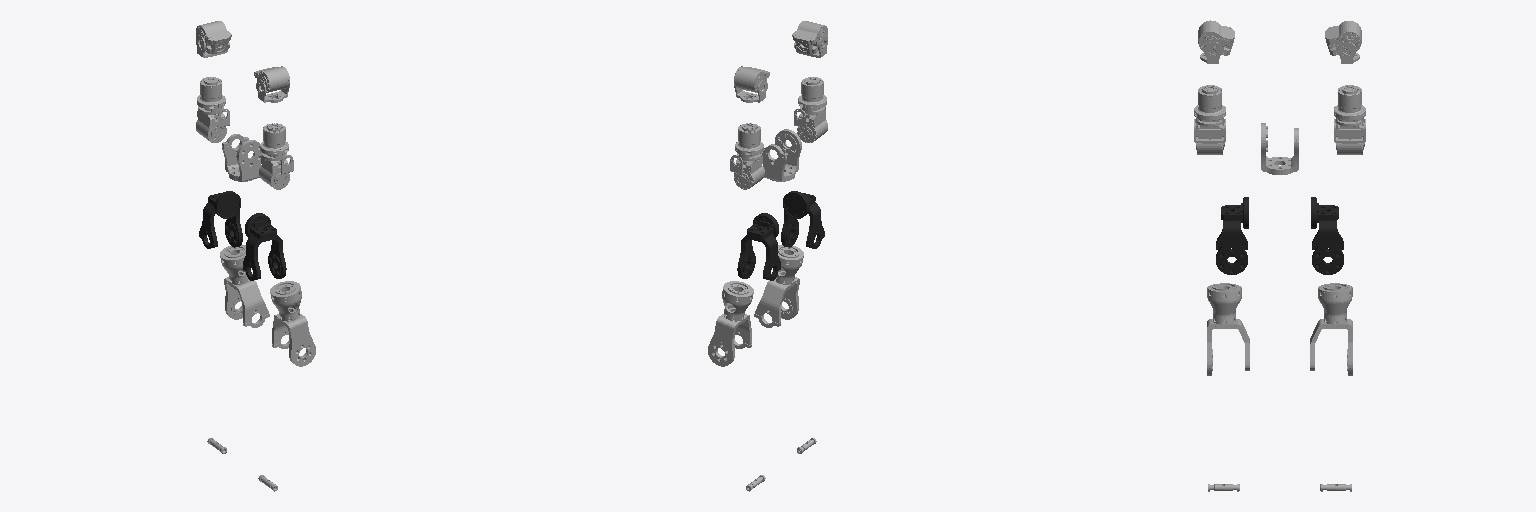
--- Facts derived from the render (not from the file) ---
Views: 3 orthographic renders of the robot side by side, from view 1: azimuth 30°, elevation 25°; view 2: azimuth 150°, elevation 25°; view 3: azimuth 270°, elevation 25°.
Model g1_23dof with 29 links and 28 joints (23 revolute, 4 fixed, 1 floating), rooted at world, posed every joint at zero.
Visible links, largest first — view 1: right_hip_yaw_link, left_hip_yaw_link, right_hip_pitch_link, left_hip_pitch_link, right_shoulder_yaw_link, left_shoulder_yaw_link, waist_yaw_link, left_shoulder_pitch_link, right_shoulder_pitch_link; view 2: left_hip_yaw_link, right_hip_yaw_link, left_hip_pitch_link, right_hip_pitch_link, left_shoulder_yaw_link, right_shoulder_yaw_link, waist_yaw_link, right_shoulder_pitch_link, left_shoulder_pitch_link; view 3: right_hip_pitch_link, left_hip_pitch_link, right_hip_yaw_link, left_hip_yaw_link, left_shoulder_yaw_link, right_shoulder_yaw_link, waist_yaw_link, left_shoulder_pitch_link, right_shoulder_pitch_link.
Link boxes in pixels (x1,y1,x2,y2): right_hip_yaw_link: (270,281,315,366); left_hip_yaw_link: (220,245,269,327); right_hip_pitch_link: (243,213,286,280); left_hip_pitch_link: (199,191,242,248); right_shoulder_yaw_link: (259,123,289,189); left_shoulder_yaw_link: (196,77,226,142); waist_yaw_link: (222,134,261,181); left_shoulder_pitch_link: (196,21,231,53); right_shoulder_pitch_link: (254,66,289,92); left_hip_yaw_link: (708,281,753,366); right_hip_yaw_link: (754,245,803,327); left_hip_pitch_link: (737,213,780,280); right_hip_pitch_link: (781,191,824,248); left_shoulder_yaw_link: (734,123,764,189); right_shoulder_yaw_link: (797,77,827,142); waist_yaw_link: (762,129,801,181); right_shoulder_pitch_link: (792,21,827,53); left_shoulder_pitch_link: (734,66,769,92); right_hip_pitch_link: (1216,197,1248,274); left_hip_pitch_link: (1311,197,1343,274); right_hip_yaw_link: (1207,283,1249,375); left_hip_yaw_link: (1310,283,1352,375); left_shoulder_yaw_link: (1334,85,1365,154); right_shoulder_yaw_link: (1194,85,1225,154); waist_yaw_link: (1261,123,1298,174); left_shoulder_pitch_link: (1325,21,1361,55); right_shoulder_pitch_link: (1198,20,1234,55).
Bounding box of the posed robot: 0.147 × 0.3616 × 1.08 m (x, y, z).
15 mesh visuals loaded from 28 distinct referenced files (15 binary STL); not drawn: 13 (reference not matched to a file when rendering).

robot.urdf — g1_23dof:
<robot name="g1_23dof">
  <mujoco>
    <compiler meshdir="meshes" discardvisual="false"/>
  </mujoco>

  <!-- [CAUTION] uncomment when convert to mujoco -->
  <link name="world"></link>
  <joint name="floating_base_joint" type="floating">
    <parent link="world"/>
    <child link="pelvis"/>
  </joint>

  <link name="pelvis">
    <inertial>
      <origin xyz="0 0 -0.07605" rpy="0 0 0"/>
      <mass value="3.813"/>
      <inertia ixx="0.010549" ixy="0" ixz="2.1E-06" iyy="0.0093089" iyz="0" izz="0.0079184"/>
    </inertial>
    <visual>
      <origin xyz="0 0 0" rpy="0 0 0"/>
      <geometry>
        <mesh filename="package://ymbot_amp_devel/robots/unitree_g1/urdf/meshes/pelvis.STL"/>
      </geometry>
      <material name="dark">
        <color rgba="0.2 0.2 0.2 1"/>
      </material>
    </visual>
  </link>
  <link name="pelvis_contour_link">
    <inertial>
      <origin xyz="0 0 0" rpy="0 0 0"/>
      <mass value="0.001"/>
      <inertia ixx="1e-7" ixy="0" ixz="0" iyy="1e-7" iyz="0" izz="1e-7"/>
    </inertial>
    <visual>
      <origin xyz="0 0 0" rpy="0 0 0"/>
      <geometry>
        <mesh filename="package://ymbot_amp_devel/robots/unitree_g1/urdf/meshes/pelvis_contour_link.STL"/>
      </geometry>
      <material name="white">
        <color rgba="0.7 0.7 0.7 1"/>
      </material>
    </visual>
    <collision>
      <origin xyz="0 0 0" rpy="0 0 0"/>
      <geometry>
        <mesh filename="package://ymbot_amp_devel/robots/unitree_g1/urdf/meshes/pelvis_contour_link.STL"/>
      </geometry>
    </collision>
  </link>
  <joint name="pelvis_contour_joint" type="fixed">
    <parent link="pelvis"/>
    <child link="pelvis_contour_link"/>
  </joint>

  <!-- Legs -->
  <link name="left_hip_pitch_link">
    <inertial>
      <origin xyz="0.002741 0.047791 -0.02606" rpy="0 0 0"/>
      <mass value="1.35"/>
      <inertia ixx="0.001811" ixy="3.68E-05" ixz="-3.44E-05" iyy="0.0014193" iyz="0.000171" izz="0.0012812"/>
    </inertial>
    <visual>
      <origin xyz="0 0 0" rpy="0 0 0"/>
      <geometry>
        <mesh filename="package://ymbot_amp_devel/robots/unitree_g1/urdf/meshes/left_hip_pitch_link.STL"/>
      </geometry>
      <material name="dark">
        <color rgba="0.2 0.2 0.2 1"/>
      </material>
    </visual>
    <collision>
      <origin xyz="0 0 0" rpy="0 0 0"/>
      <geometry>
        <mesh filename="package://ymbot_amp_devel/robots/unitree_g1/urdf/meshes/left_hip_pitch_link.STL"/>
      </geometry>
    </collision>
  </link>
  <joint name="left_hip_pitch_joint" type="revolute">
    <origin xyz="0 0.064452 -0.1027" rpy="0 0 0"/>
    <parent link="pelvis"/>
    <child link="left_hip_pitch_link"/>
    <axis xyz="0 1 0"/>
    <limit lower="-2.5307" upper="2.8798" effort="88" velocity="32"/>
  </joint>
  <link name="left_hip_roll_link">
    <inertial>
      <origin xyz="0.029812 -0.001045 -0.087934" rpy="0 0 0"/>
      <mass value="1.52"/>
      <inertia ixx="0.0023773" ixy="-3.8E-06" ixz="-0.0003908" iyy="0.0024123" iyz="1.84E-05" izz="0.0016595"/>
    </inertial>
    <visual>
      <origin xyz="0 0 0" rpy="0 0 0"/>
      <geometry>
        <mesh filename="package://ymbot_amp_devel/robots/unitree_g1/urdf/meshes/left_hip_roll_link.STL"/>
      </geometry>
      <material name="white">
        <color rgba="0.7 0.7 0.7 1"/>
      </material>
    </visual>
    <collision>
      <origin xyz="0 0 0" rpy="0 0 0"/>
      <geometry>
        <mesh filename="package://ymbot_amp_devel/robots/unitree_g1/urdf/meshes/left_hip_roll_link.STL"/>
      </geometry>
    </collision>
  </link>
  <joint name="left_hip_roll_joint" type="revolute">
    <origin xyz="0 0.052 -0.030465" rpy="0 -0.1749 0"/>
    <parent link="left_hip_pitch_link"/>
    <child link="left_hip_roll_link"/>
    <axis xyz="1 0 0"/>
    <limit lower="-0.5236" upper="2.9671" effort="88" velocity="32"/>
  </joint>
  <link name="left_hip_yaw_link">
    <inertial>
      <origin xyz="-0.057709 -0.010981 -0.15078" rpy="0 0 0"/>
      <mass value="1.702"/>
      <inertia ixx="0.0057774" ixy="-0.0005411" ixz="-0.0023948" iyy="0.0076124" iyz="-0.0007072" izz="0.003149"/>
    </inertial>
    <visual>
      <origin xyz="0 0 0" rpy="0 0 0"/>
      <geometry>
        <mesh filename="package://ymbot_amp_devel/robots/unitree_g1/urdf/meshes/left_hip_yaw_link.STL"/>
      </geometry>
      <material name="white">
        <color rgba="0.7 0.7 0.7 1"/>
      </material>
    </visual>
    <collision>
      <origin xyz="0 0 0" rpy="0 0 0"/>
      <geometry>
        <mesh filename="package://ymbot_amp_devel/robots/unitree_g1/urdf/meshes/left_hip_yaw_link.STL"/>
      </geometry>
    </collision>
  </link>
  <joint name="left_hip_yaw_joint" type="revolute">
    <origin xyz="0.025001 0 -0.12412" rpy="0 0 0"/>
    <parent link="left_hip_roll_link"/>
    <child link="left_hip_yaw_link"/>
    <axis xyz="0 0 1"/>
    <limit lower="-2.7576" upper="2.7576" effort="88" velocity="32"/>
  </joint>
  <link name="left_knee_link">
    <inertial>
      <origin xyz="0.005457 0.003964 -0.12074" rpy="0 0 0"/>
      <mass value="1.932"/>
      <inertia ixx="0.011329" ixy="4.82E-05" ixz="-4.49E-05" iyy="0.011277" iyz="-0.0007146" izz="0.0015168"/>
    </inertial>
    <visual>
      <origin xyz="0 0 0" rpy="0 0 0"/>
      <geometry>
        <mesh filename="package://ymbot_amp_devel/robots/unitree_g1/urdf/meshes/left_knee_link.STL"/>
      </geometry>
      <material name="white">
        <color rgba="0.7 0.7 0.7 1"/>
      </material>
    </visual>
    <collision>
      <origin xyz="0 0 0" rpy="0 0 0"/>
      <geometry>
        <mesh filename="package://ymbot_amp_devel/robots/unitree_g1/urdf/meshes/left_knee_link.STL"/>
      </geometry>
    </collision>
  </link>
  <joint name="left_knee_joint" type="revolute">
    <origin xyz="-0.078273 0.0021489 -0.17734" rpy="0 0.1749 0"/>
    <parent link="left_hip_yaw_link"/>
    <child link="left_knee_link"/>
    <axis xyz="0 1 0"/>
    <limit lower="-0.087267" upper="2.8798" effort="139" velocity="20"/>
  </joint>
  <link name="left_ankle_pitch_link">
    <inertial>
      <origin xyz="-0.007269 0 0.011137" rpy="0 0 0"/>
      <mass value="0.074"/>
      <inertia ixx="8.4E-06" ixy="0" ixz="-2.9E-06" iyy="1.89E-05" iyz="0" izz="1.26E-05"/>
    </inertial>
    <visual>
      <origin xyz="0 0 0" rpy="0 0 0"/>
      <geometry>
        <mesh filename="package://ymbot_amp_devel/robots/unitree_g1/urdf/meshes/left_ankle_pitch_link.STL"/>
      </geometry>
      <material name="white">
        <color rgba="0.7 0.7 0.7 1"/>
      </material>
    </visual>
    <collision>
      <origin xyz="0 0 0" rpy="0 0 0"/>
      <geometry>
        <mesh filename="package://ymbot_amp_devel/robots/unitree_g1/urdf/meshes/left_ankle_pitch_link.STL"/>
      </geometry>
    </collision>
  </link>
  <joint name="left_ankle_pitch_joint" type="revolute">
    <origin xyz="0 -9.4445E-05 -0.30001" rpy="0 0 0"/>
    <parent link="left_knee_link"/>
    <child link="left_ankle_pitch_link"/>
    <axis xyz="0 1 0"/>
    <limit lower="-0.87267" upper="0.5236" effort="50" velocity="37"/>
  </joint>
  <link name="left_ankle_roll_link">
    <inertial>
      <origin xyz="0.026505 0 -0.016425" rpy="0 0 0"/>
      <mass value="0.608"/>
      <inertia ixx="0.0002231" ixy="2E-07" ixz="8.91E-05" iyy="0.0016161" iyz="-1E-07" izz="0.0016667"/>
    </inertial>
    <visual>
      <origin xyz="0 0 0" rpy="0 0 0"/>
      <geometry>
        <mesh filename="package://ymbot_amp_devel/robots/unitree_g1/urdf/meshes/left_ankle_roll_link.STL"/>
      </geometry>
      <material name="dark">
        <color rgba="0.2 0.2 0.2 1"/>
      </material>
    </visual>
    <collision>
      <origin xyz="0 0 0" rpy="0 0 0"/>
      <geometry>
        <mesh filename="package://ymbot_amp_devel/robots/unitree_g1/urdf/meshes/left_ankle_roll_link.STL"/>
      </geometry>
    </collision>
  </link>
  <joint name="left_ankle_roll_joint" type="revolute">
    <origin xyz="0 0 -0.017558" rpy="0 0 0"/>
    <parent link="left_ankle_pitch_link"/>
    <child link="left_ankle_roll_link"/>
    <axis xyz="1 0 0"/>
    <limit lower="-0.2618" upper="0.2618" effort="50" velocity="37"/>
  </joint>
  <link name="right_hip_pitch_link">
    <inertial>
      <origin xyz="0.002741 -0.047791 -0.02606" rpy="0 0 0"/>
      <mass value="1.35"/>
      <inertia ixx="0.001811" ixy="-3.68E-05" ixz="-3.44E-05" iyy="0.0014193" iyz="-0.000171" izz="0.0012812"/>
    </inertial>
    <visual>
      <origin xyz="0 0 0" rpy="0 0 0"/>
      <geometry>
        <mesh filename="package://ymbot_amp_devel/robots/unitree_g1/urdf/meshes/right_hip_pitch_link.STL"/>
      </geometry>
      <material name="dark">
        <color rgba="0.2 0.2 0.2 1"/>
      </material>
    </visual>
    <collision>
      <origin xyz="0 0 0" rpy="0 0 0"/>
      <geometry>
        <mesh filename="package://ymbot_amp_devel/robots/unitree_g1/urdf/meshes/right_hip_pitch_link.STL"/>
      </geometry>
    </collision>
  </link>
  <joint name="right_hip_pitch_joint" type="revolute">
    <origin xyz="0 -0.064452 -0.1027" rpy="0 0 0"/>
    <parent link="pelvis"/>
    <child link="right_hip_pitch_link"/>
    <axis xyz="0 1 0"/>
    <limit lower="-2.5307" upper="2.8798" effort="88" velocity="32"/>
  </joint>
  <link name="right_hip_roll_link">
    <inertial>
      <origin xyz="0.029812 0.001045 -0.087934" rpy="0 0 0"/>
      <mass value="1.52"/>
      <inertia ixx="0.0023773" ixy="3.8E-06" ixz="-0.0003908" iyy="0.0024123" iyz="-1.84E-05" izz="0.0016595"/>
    </inertial>
    <visual>
      <origin xyz="0 0 0" rpy="0 0 0"/>
      <geometry>
        <mesh filename="package://ymbot_amp_devel/robots/unitree_g1/urdf/meshes/right_hip_roll_link.STL"/>
      </geometry>
      <material name="white">
        <color rgba="0.7 0.7 0.7 1"/>
      </material>
    </visual>
    <collision>
      <origin xyz="0 0 0" rpy="0 0 0"/>
      <geometry>
        <mesh filename="package://ymbot_amp_devel/robots/unitree_g1/urdf/meshes/right_hip_roll_link.STL"/>
      </geometry>
    </collision>
  </link>
  <joint name="right_hip_roll_joint" type="revolute">
    <origin xyz="0 -0.052 -0.030465" rpy="0 -0.1749 0"/>
    <parent link="right_hip_pitch_link"/>
    <child link="right_hip_roll_link"/>
    <axis xyz="1 0 0"/>
    <limit lower="-2.9671" upper="0.5236" effort="88" velocity="32"/>
  </joint>
  <link name="right_hip_yaw_link">
    <inertial>
      <origin xyz="-0.057709 0.010981 -0.15078" rpy="0 0 0"/>
      <mass value="1.702"/>
      <inertia ixx="0.0057774" ixy="0.0005411" ixz="-0.0023948" iyy="0.0076124" iyz="0.0007072" izz="0.003149"/>
    </inertial>
    <visual>
      <origin xyz="0 0 0" rpy="0 0 0"/>
      <geometry>
        <mesh filename="package://ymbot_amp_devel/robots/unitree_g1/urdf/meshes/right_hip_yaw_link.STL"/>
      </geometry>
      <material name="white">
        <color rgba="0.7 0.7 0.7 1"/>
      </material>
    </visual>
    <collision>
      <origin xyz="0 0 0" rpy="0 0 0"/>
      <geometry>
        <mesh filename="package://ymbot_amp_devel/robots/unitree_g1/urdf/meshes/right_hip_yaw_link.STL"/>
      </geometry>
    </collision>
  </link>
  <joint name="right_hip_yaw_joint" type="revolute">
    <origin xyz="0.025001 0 -0.12412" rpy="0 0 0"/>
    <parent link="right_hip_roll_link"/>
    <child link="right_hip_yaw_link"/>
    <axis xyz="0 0 1"/>
    <limit lower="-2.7576" upper="2.7576" effort="88" velocity="32"/>
  </joint>
  <link name="right_knee_link">
    <inertial>
      <origin xyz="0.005457 -0.003964 -0.12074" rpy="0 0 0"/>
      <mass value="1.932"/>
      <inertia ixx="0.011329" ixy="-4.82E-05" ixz="4.49E-05" iyy="0.011277" iyz="0.0007146" izz="0.0015168"/>
    </inertial>
    <visual>
      <origin xyz="0 0 0" rpy="0 0 0"/>
      <geometry>
        <mesh filename="package://ymbot_amp_devel/robots/unitree_g1/urdf/meshes/right_knee_link.STL"/>
      </geometry>
      <material name="white">
        <color rgba="0.7 0.7 0.7 1"/>
      </material>
    </visual>
    <collision>
      <origin xyz="0 0 0" rpy="0 0 0"/>
      <geometry>
        <mesh filename="package://ymbot_amp_devel/robots/unitree_g1/urdf/meshes/right_knee_link.STL"/>
      </geometry>
    </collision>
  </link>
  <joint name="right_knee_joint" type="revolute">
    <origin xyz="-0.078273 -0.0021489 -0.17734" rpy="0 0.1749 0"/>
    <parent link="right_hip_yaw_link"/>
    <child link="right_knee_link"/>
    <axis xyz="0 1 0"/>
    <limit lower="-0.087267" upper="2.8798" effort="139" velocity="20"/>
  </joint>
  <link name="right_ankle_pitch_link">
    <inertial>
      <origin xyz="-0.007269 0 0.011137" rpy="0 0 0"/>
      <mass value="0.074"/>
      <inertia ixx="8.4E-06" ixy="0" ixz="-2.9E-06" iyy="1.89E-05" iyz="0" izz="1.26E-05"/>
    </inertial>
    <visual>
      <origin xyz="0 0 0" rpy="0 0 0"/>
      <geometry>
        <mesh filename="package://ymbot_amp_devel/robots/unitree_g1/urdf/meshes/right_ankle_pitch_link.STL"/>
      </geometry>
      <material name="white">
        <color rgba="0.7 0.7 0.7 1"/>
      </material>
    </visual>
    <collision>
      <origin xyz="0 0 0" rpy="0 0 0"/>
      <geometry>
        <mesh filename="package://ymbot_amp_devel/robots/unitree_g1/urdf/meshes/right_ankle_pitch_link.STL"/>
      </geometry>
    </collision>
  </link>
  <joint name="right_ankle_pitch_joint" type="revolute">
    <origin xyz="0 9.4445E-05 -0.30001" rpy="0 0 0"/>
    <parent link="right_knee_link"/>
    <child link="right_ankle_pitch_link"/>
    <axis xyz="0 1 0"/>
    <limit lower="-0.87267" upper="0.5236" effort="50" velocity="37"/>
  </joint>
  <link name="right_ankle_roll_link">
    <inertial>
      <origin xyz="0.026505 0 -0.016425" rpy="0 0 0"/>
      <mass value="0.608"/>
      <inertia ixx="0.0002231" ixy="-2E-07" ixz="8.91E-05" iyy="0.0016161" iyz="1E-07" izz="0.0016667"/>
    </inertial>
    <visual>
      <origin xyz="0 0 0" rpy="0 0 0"/>
      <geometry>
        <mesh filename="package://ymbot_amp_devel/robots/unitree_g1/urdf/meshes/right_ankle_roll_link.STL"/>
      </geometry>
      <material name="dark">
        <color rgba="0.2 0.2 0.2 1"/>
      </material>
    </visual>
    <collision>
      <origin xyz="0 0 0" rpy="0 0 0"/>
      <geometry>
        <mesh filename="package://ymbot_amp_devel/robots/unitree_g1/urdf/meshes/right_ankle_roll_link.STL"/>
      </geometry>
    </collision>
  </link>
  <joint name="right_ankle_roll_joint" type="revolute">
    <origin xyz="0 0 -0.017558" rpy="0 0 0"/>
    <parent link="right_ankle_pitch_link"/>
    <child link="right_ankle_roll_link"/>
    <axis xyz="1 0 0"/>
    <limit lower="-0.2618" upper="0.2618" effort="50" velocity="37"/>
  </joint>

  <!-- Torso -->
  <link name="waist_yaw_link">
    <inertial>
      <origin xyz="0.003964 0 0.018769" rpy="0 0 0"/>
      <mass value="0.244"/>
      <inertia ixx="9.9587E-05" ixy="-1.833E-06" ixz="-1.2617E-05" iyy="0.00012411" iyz="-1.18E-07" izz="0.00015586"/>
    </inertial>
    <visual>
      <origin xyz="0 0 0" rpy="0 0 0"/>
      <geometry>
        <mesh filename="package://ymbot_amp_devel/robots/unitree_g1/urdf/meshes/waist_yaw_link.STL"/>
      </geometry>
      <material name="white">
        <color rgba="0.7 0.7 0.7 1"/>
      </material>
    </visual>
  </link>
  <joint name="waist_yaw_joint" type="revolute">
    <origin xyz="0 0 0" rpy="0 0 0"/>
    <parent link="pelvis"/>
    <child link="waist_yaw_link"/>
    <axis xyz="0 0 1"/>
    <limit lower="-2.618" upper="2.618" effort="88" velocity="32"/>
  </joint>
  <link name="waist_roll_link">
    <inertial>
      <origin xyz="0 -0.000236 0.010111" rpy="0 0 0"/>
      <mass value="0.047"/>
      <inertia ixx="7.515E-06" ixy="0" ixz="0" iyy="6.398E-06" iyz="9.9E-08" izz="3.988E-06"/>
    </inertial>
    <visual>
      <origin xyz="0 0 0" rpy="0 0 0"/>
      <geometry>
        <mesh filename="package://ymbot_amp_devel/robots/unitree_g1/urdf/meshes/waist_roll_link.STL"/>
      </geometry>
      <material name="white">
        <color rgba="0.7 0.7 0.7 1"/>
      </material>
    </visual>
  </link>
  <joint name="waist_roll_joint" type="revolute">
    <origin xyz="-0.0039635 0 0.035" rpy="0 0 0"/>
    <parent link="waist_yaw_link"/>
    <child link="waist_roll_link"/>
    <axis xyz="1 0 0"/>
    <limit lower="-0.52" upper="0.52" effort="50" velocity="37"/>
  </joint>
  <link name="torso_link">
    <inertial>
      <origin xyz="0.002601 0.000257 0.153719" rpy="0 0 0"/>
      <mass value="8.562"/>
      <inertia ixx="0.065674966" ixy="-8.597E-05" ixz="-0.001737252" iyy="0.053535188" iyz="8.6899E-05" izz="0.030808125"/>
    </inertial>
    <visual>
      <origin xyz="0 0 0" rpy="0 0 0"/>
      <geometry>
        <mesh filename="package://ymbot_amp_devel/robots/unitree_g1/urdf/meshes/torso_link.STL"/>
      </geometry>
      <material name="white">
        <color rgba="0.7 0.7 0.7 1"/>
      </material>
    </visual>
    <collision>
      <origin xyz="0 0 0" rpy="0 0 0"/>
      <geometry>
        <mesh filename="package://ymbot_amp_devel/robots/unitree_g1/urdf/meshes/torso_link.STL"/>
      </geometry>
    </collision>
  </link>
  <joint name="waist_pitch_joint" type="revolute">
    <origin xyz="0 0 0.019" rpy="0 0 0"/>
    <parent link="waist_roll_link"/>
    <child link="torso_link"/>
    <axis xyz="0 1 0"/>
    <limit lower="-0.52" upper="0.52" effort="50" velocity="37"/>
  </joint>

  <!-- LOGO -->
  <joint name="logo_joint" type="fixed">
    <origin xyz="0.0039635 0 -0.054" rpy="0 0 0"/>
    <parent link="torso_link"/>
    <child link="logo_link"/>
  </joint>
  <link name="logo_link">
    <inertial>
      <origin xyz="0 0 0" rpy="0 0 0"/>
      <mass value="0.001"/>
      <inertia ixx="1e-7" ixy="0" ixz="0" iyy="1e-7" iyz="0" izz="1e-7"/>
    </inertial>
    <visual>
      <origin xyz="0 0 0" rpy="0 0 0"/>
      <geometry>
        <mesh filename="package://ymbot_amp_devel/robots/unitree_g1/urdf/meshes/logo_link.STL"/>
      </geometry>
      <material name="dark">
        <color rgba="0.2 0.2 0.2 1"/>
      </material>
    </visual>
    <collision>
      <origin xyz="0 0 0" rpy="0 0 0"/>
      <geometry>
        <mesh filename="package://ymbot_amp_devel/robots/unitree_g1/urdf/meshes/logo_link.STL"/>
      </geometry>
    </collision>
  </link>

  <!-- Head -->
  <link name="head_link">
    <inertial>
      <origin xyz="0.005267 0.000299 0.449869" rpy="0 0 0"/>
      <mass value="1.036"/>
      <inertia ixx="0.004085051" ixy="-2.543E-06" ixz="-6.9455E-05" iyy="0.004185212" iyz="-3.726E-06" izz="0.001807911"/>
    </inertial>
    <visual>
      <origin xyz="0 0 0" rpy="0 0 0"/>
      <geometry>
        <mesh filename="package://ymbot_amp_devel/robots/unitree_g1/urdf/meshes/head_link.STL"/>
      </geometry>
      <material name="dark">
        <color rgba="0.2 0.2 0.2 1"/>
      </material>
    </visual>
    <collision>
      <origin xyz="0 0 0" rpy="0 0 0"/>
      <geometry>
        <mesh filename="package://ymbot_amp_devel/robots/unitree_g1/urdf/meshes/head_link.STL"/>
      </geometry>
    </collision>
  </link>
  <joint name="head_joint" type="fixed">
    <origin xyz="0.0039635 0 -0.054" rpy="0 0 0"/>
    <parent link="torso_link"/>
    <child link="head_link"/>
  </joint>

  <!-- Waist Support -->
  <link name="waist_support_link">
    <inertial>
      <origin xyz="0 0 0" rpy="0 0 0"/>
      <mass value="0.001"/>
      <inertia ixx="1e-7" ixy="0" ixz="0" iyy="1e-7" iyz="0" izz="1e-7"/>
    </inertial>
    <visual>
      <origin xyz="0 0 0" rpy="0 0 0"/>
      <geometry>
        <mesh filename="package://ymbot_amp_devel/robots/unitree_g1/urdf/meshes/waist_support_link.STL"/>
      </geometry>
      <material name="white">
        <color rgba="0.7 0.7 0.7 1"/>
      </material>
    </visual>
    <collision>
      <origin xyz="0 0 0" rpy="0 0 0"/>
      <geometry>
        <mesh filename="package://ymbot_amp_devel/robots/unitree_g1/urdf/meshes/waist_support_link.STL"/>
      </geometry>
    </collision>
  </link>
  <joint name="waist_support_joint" type="fixed">
    <origin xyz="0.0039635 0 -0.054" rpy="0 0 0"/>
    <parent link="torso_link"/>
    <child link="waist_support_link"/>
  </joint>

  <!-- Arm -->
  <link name="left_shoulder_pitch_link">
    <inertial>
      <origin xyz="0 0.035892 -0.011628" rpy="0 0 0"/>
      <mass value="0.718"/>
      <inertia ixx="0.0004291" ixy="-9.2E-06" ixz="6.4E-06" iyy="0.000453" iyz="2.26E-05" izz="0.000423"/>
    </inertial>
    <visual>
      <origin xyz="0 0 0" rpy="0 0 0"/>
      <geometry>
        <mesh filename="package://ymbot_amp_devel/robots/unitree_g1/urdf/meshes/left_shoulder_pitch_link.STL"/>
      </geometry>
      <material name="white">
        <color rgba="0.7 0.7 0.7 1"/>
      </material>
    </visual>
    <collision>
      <origin xyz="0 0 0" rpy="0 0 0"/>
      <geometry>
        <mesh filename="package://ymbot_amp_devel/robots/unitree_g1/urdf/meshes/left_shoulder_pitch_link.STL"/>
      </geometry>
    </collision>
  </link>
  <joint name="left_shoulder_pitch_joint" type="revolute">
    <origin xyz="0.0039563 0.10022 0.23778" rpy="0.27931 5.4949E-05 -0.00019159"/>
    <parent link="torso_link"/>
    <child link="left_shoulder_pitch_link"/>
    <axis xyz="0 1 0"/>
    <limit lower="-3.0892" upper="2.6704" effort="25" velocity="37"/>
  </joint>
  <link name="left_shoulder_roll_link">
    <inertial>
      <origin xyz="-0.000227 0.00727 -0.063243" rpy="0 0 0"/>
      <mass value="0.643"/>
      <inertia ixx="0.0006177" ixy="-1E-06" ixz="8.7E-06" iyy="0.0006912" iyz="-5.3E-06" izz="0.0003894"/>
    </inertial>
    <visual>
      <origin xyz="0 0 0" rpy="0 0 0"/>
      <geometry>
        <mesh filename="package://ymbot_amp_devel/robots/unitree_g1/urdf/meshes/left_shoulder_roll_link.STL"/>
      </geometry>
      <material name="white">
        <color rgba="0.7 0.7 0.7 1"/>
      </material>
    </visual>
    <collision>
      <origin xyz="0 0 0" rpy="0 0 0"/>
      <geometry>
        <mesh filename="package://ymbot_amp_devel/robots/unitree_g1/urdf/meshes/left_shoulder_roll_link.STL"/>
      </geometry>
    </collision>
  </link>
  <joint name="left_shoulder_roll_joint" type="revolute">
    <origin xyz="0 0.038 -0.013831" rpy="-0.27925 0 0"/>
    <parent link="left_shoulder_pitch_link"/>
    <child link="left_shoulder_roll_link"/>
    <axis xyz="1 0 0"/>
    <limit lower="-1.5882" upper="2.2515" effort="25" velocity="37"/>
  </joint>
  <link name="left_shoulder_yaw_link">
    <inertial>
      <origin xyz="0.010773 -0.002949 -0.072009" rpy="0 0 0"/>
      <mass value="0.734"/>
      <inertia ixx="0.0009988" ixy="7.9E-06" ixz="0.0001412" iyy="0.0010605" iyz="-2.86E-05" izz="0.0004354"/>
    </inertial>
    <visual>
      <origin xyz="0 0 0" rpy="0 0 0"/>
      <geometry>
        <mesh filename="package://ymbot_amp_devel/robots/unitree_g1/urdf/meshes/left_shoulder_yaw_link.STL"/>
      </geometry>
      <material name="white">
        <color rgba="0.7 0.7 0.7 1"/>
      </material>
    </visual>
    <collision>
      <origin xyz="0 0 0" rpy="0 0 0"/>
      <geometry>
        <mesh filename="package://ymbot_amp_devel/robots/unitree_g1/urdf/meshes/left_shoulder_yaw_link.STL"/>
      </geometry>
    </collision>
  </link>
  <joint name="left_shoulder_yaw_joint" type="revolute">
    <origin xyz="0 0.00624 -0.1032" rpy="0 0 0"/>
    <parent link="left_shoulder_roll_link"/>
    <child link="left_shoulder_yaw_link"/>
    <axis xyz="0 0 1"/>
    <limit lower="-2.618" upper="2.618" effort="25" velocity="37"/>
  </joint>
  <link name="left_elbow_link">
    <inertial>
      <origin xyz="0.064956 0.004454 -0.010062" rpy="0 0 0"/>
      <mass value="0.6"/>
      <inertia ixx="0.0002891" ixy="6.53E-05" ixz="1.72E-05" iyy="0.0004152" iyz="-5.6E-06" izz="0.0004197"/>
    </inertial>
    <visual>
      <origin xyz="0 0 0" rpy="0 0 0"/>
      <geometry>
        <mesh filename="package://ymbot_amp_devel/robots/unitree_g1/urdf/meshes/left_elbow_link.STL"/>
      </geometry>
      <material name="white">
        <color rgba="0.7 0.7 0.7 1"/>
      </material>
    </visual>
    <collision>
      <origin xyz="0 0 0" rpy="0 0 0"/>
      <geometry>
        <mesh filename="package://ymbot_amp_devel/robots/unitree_g1/urdf/meshes/left_elbow_link.STL"/>
      </geometry>
    </collision>
  </link>
  <joint name="left_elbow_joint" type="revolute">
    <origin xyz="0.015783 0 -0.080518" rpy="0 0 0"/>
    <parent link="left_shoulder_yaw_link"/>
    <child link="left_elbow_link"/>
    <axis xyz="0 1 0"/>
    <limit lower="-1.0472" upper="2.0944" effort="25" velocity="37"/>
  </joint>
  <link name="right_shoulder_pitch_link">
    <inertial>
      <origin xyz="0 -0.035892 -0.011628" rpy="0 0 0"/>
      <mass value="0.718"/>
      <inertia ixx="0.0004291" ixy="9.2E-06" ixz="6.4E-06" iyy="0.000453" iyz="-2.26E-05" izz="0.000423"/>
    </inertial>
    <visual>
      <origin xyz="0 0 0" rpy="0 0 0"/>
      <geometry>
        <mesh filename="package://ymbot_amp_devel/robots/unitree_g1/urdf/meshes/right_shoulder_pitch_link.STL"/>
      </geometry>
      <material name="white">
        <color rgba="0.7 0.7 0.7 1"/>
      </material>
    </visual>
    <collision>
      <origin xyz="0 0 0" rpy="0 0 0"/>
      <geometry>
        <mesh filename="package://ymbot_amp_devel/robots/unitree_g1/urdf/meshes/right_shoulder_pitch_link.STL"/>
      </geometry>
    </collision>
  </link>
  <joint name="right_shoulder_pitch_joint" type="revolute">
    <origin xyz="0.0039563 -0.10021 0.23778" rpy="-0.27931 5.4949E-05 0.00019159"/>
    <parent link="torso_link"/>
    <child link="right_shoulder_pitch_link"/>
    <axis xyz="0 1 0"/>
    <limit lower="-3.0892" upper="2.6704" effort="25" velocity="37"/>
  </joint>
  <link name="right_shoulder_roll_link">
    <inertial>
      <origin xyz="-0.000227 -0.00727 -0.063243" rpy="0 0 0"/>
      <mass value="0.643"/>
      <inertia ixx="0.0006177" ixy="1E-06" ixz="8.7E-06" iyy="0.0006912" iyz="5.3E-06" izz="0.0003894"/>
    </inertial>
    <visual>
      <origin xyz="0 0 0" rpy="0 0 0"/>
      <geometry>
        <mesh filename="package://ymbot_amp_devel/robots/unitree_g1/urdf/meshes/right_shoulder_roll_link.STL"/>
      </geometry>
      <material name="white">
        <color rgba="0.7 0.7 0.7 1"/>
      </material>
    </visual>
    <collision>
      <origin xyz="0 0 0" rpy="0 0 0"/>
      <geometry>
        <mesh filename="package://ymbot_amp_devel/robots/unitree_g1/urdf/meshes/right_shoulder_roll_link.STL"/>
      </geometry>
    </collision>
  </link>
  <joint name="right_shoulder_roll_joint" type="revolute">
    <origin xyz="0 -0.038 -0.013831" rpy="0.27925 0 0"/>
    <parent link="right_shoulder_pitch_link"/>
    <child link="right_shoulder_roll_link"/>
    <axis xyz="1 0 0"/>
    <limit lower="-2.2515" upper="1.5882" effort="25" velocity="37"/>
  </joint>
  <link name="right_shoulder_yaw_link">
    <inertial>
      <origin xyz="0.010773 0.002949 -0.072009" rpy="0 0 0"/>
      <mass value="0.734"/>
      <inertia ixx="0.0009988" ixy="-7.9E-06" ixz="0.0001412" iyy="0.0010605" iyz="2.86E-05" izz="0.0004354"/>
    </inertial>
    <visual>
      <origin xyz="0 0 0" rpy="0 0 0"/>
      <geometry>
        <mesh filename="package://ymbot_amp_devel/robots/unitree_g1/urdf/meshes/right_shoulder_yaw_link.STL"/>
      </geometry>
      <material name="white">
        <color rgba="0.7 0.7 0.7 1"/>
      </material>
    </visual>
    <collision>
      <origin xyz="0 0 0" rpy="0 0 0"/>
      <geometry>
        <mesh filename="package://ymbot_amp_devel/robots/unitree_g1/urdf/meshes/right_shoulder_yaw_link.STL"/>
      </geometry>
    </collision>
  </link>
  <joint name="right_shoulder_yaw_joint" type="revolute">
    <origin xyz="0 -0.00624 -0.1032" rpy="0 0 0"/>
    <parent link="right_shoulder_roll_link"/>
    <child link="right_shoulder_yaw_link"/>
    <axis xyz="0 0 1"/>
    <limit lower="-2.618" upper="2.618" effort="25" velocity="37"/>
  </joint>
  <link name="right_elbow_link">
    <inertial>
      <origin xyz="0.064956 -0.004454 -0.010062" rpy="0 0 0"/>
      <mass value="0.6"/>
      <inertia ixx="0.0002891" ixy="-6.53E-05" ixz="1.72E-05" iyy="0.0004152" iyz="5.6E-06" izz="0.0004197"/>
    </inertial>
    <visual>
      <origin xyz="0 0 0" rpy="0 0 0"/>
      <geometry>
        <mesh filename="package://ymbot_amp_devel/robots/unitree_g1/urdf/meshes/right_elbow_link.STL"/>
      </geometry>
      <material name="white">
        <color rgba="0.7 0.7 0.7 1"/>
      </material>
    </visual>
    <collision>
      <origin xyz="0 0 0" rpy="0 0 0"/>
      <geometry>
        <mesh filename="package://ymbot_amp_devel/robots/unitree_g1/urdf/meshes/right_elbow_link.STL"/>
      </geometry>
    </collision>
  </link>
  <joint name="right_elbow_joint" type="revolute">
    <origin xyz="0.015783 0 -0.080518" rpy="0 0 0"/>
    <parent link="right_shoulder_yaw_link"/>
    <child link="right_elbow_link"/>
    <axis xyz="0 1 0"/>
    <limit lower="-1.0472" upper="2.0944" effort="25" velocity="37"/>
  </joint>
</robot>
